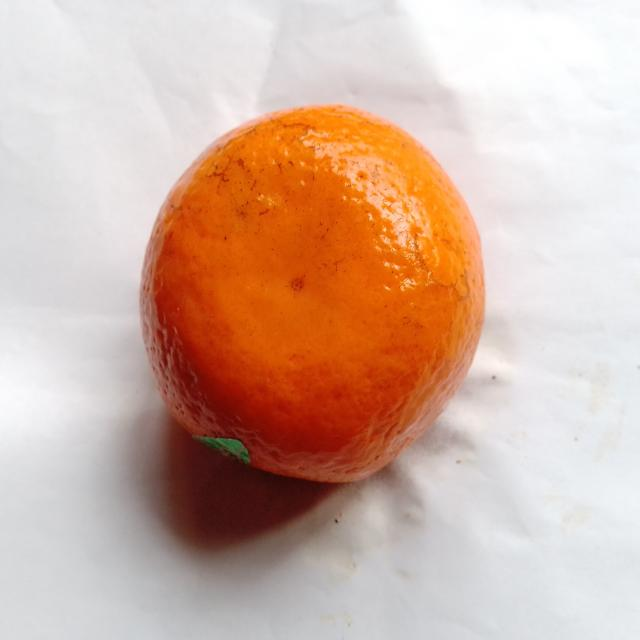orange: (141, 106, 484, 481)
